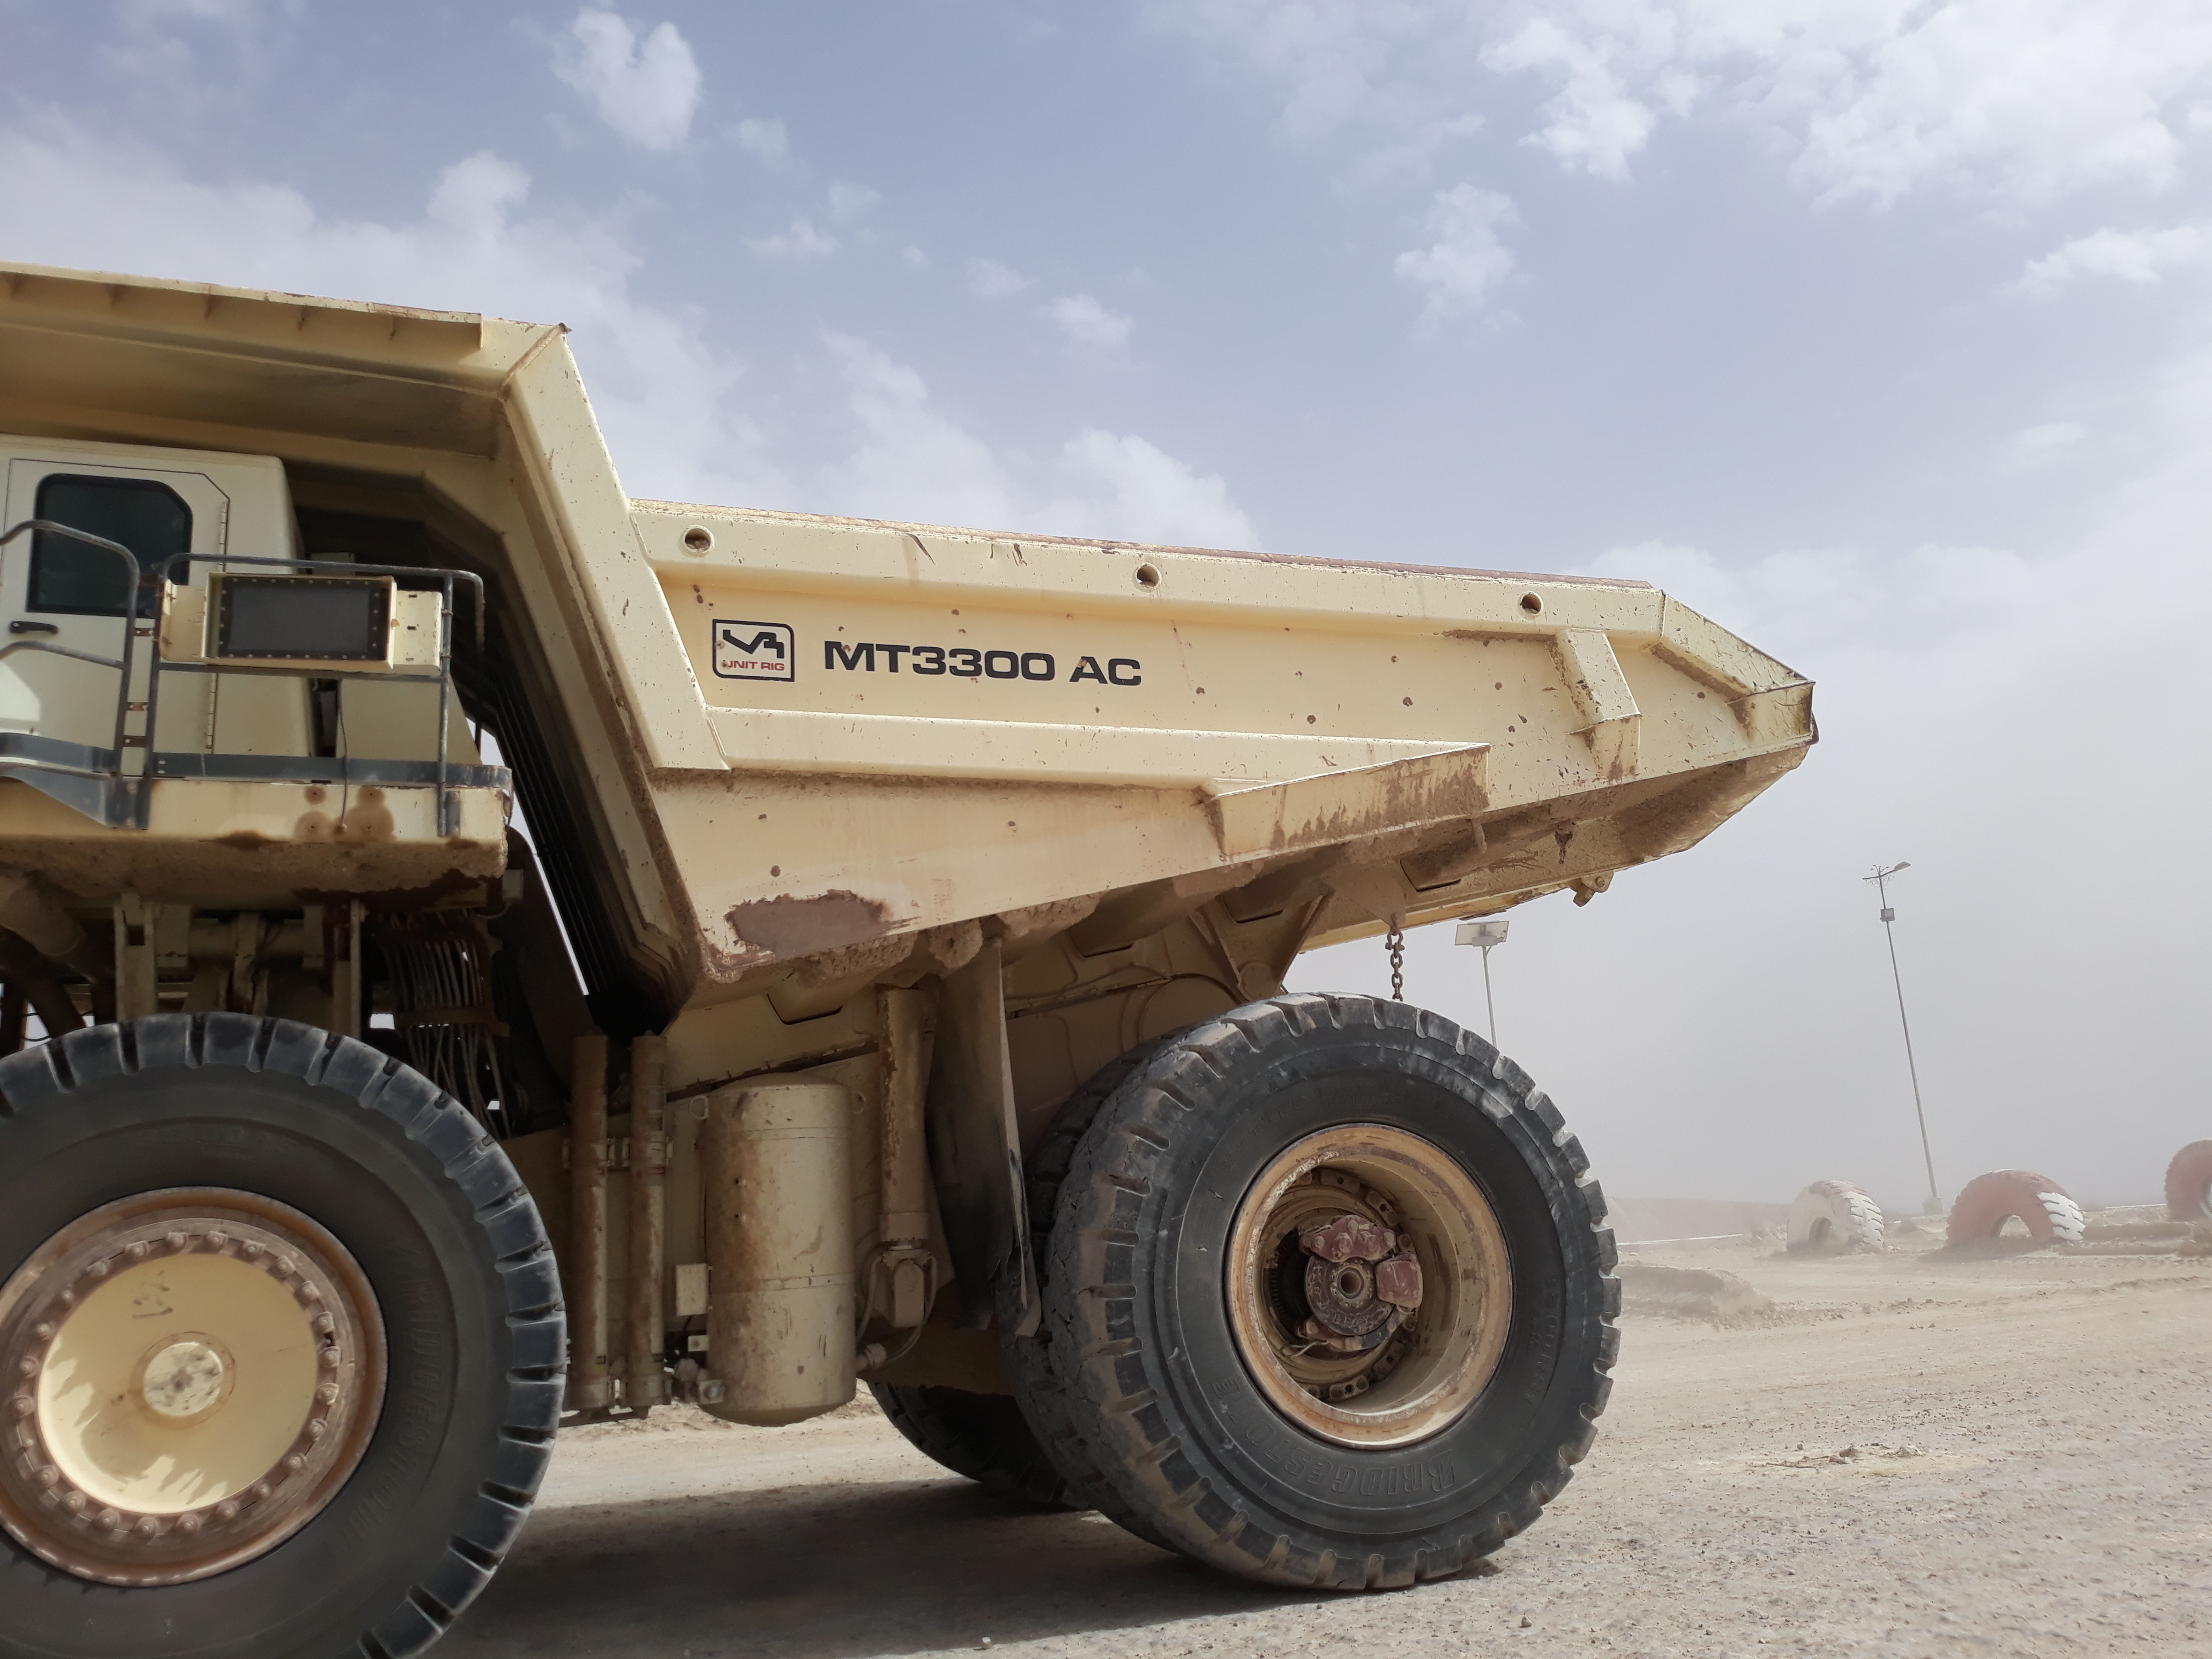camion: (3, 249, 1838, 1659)
